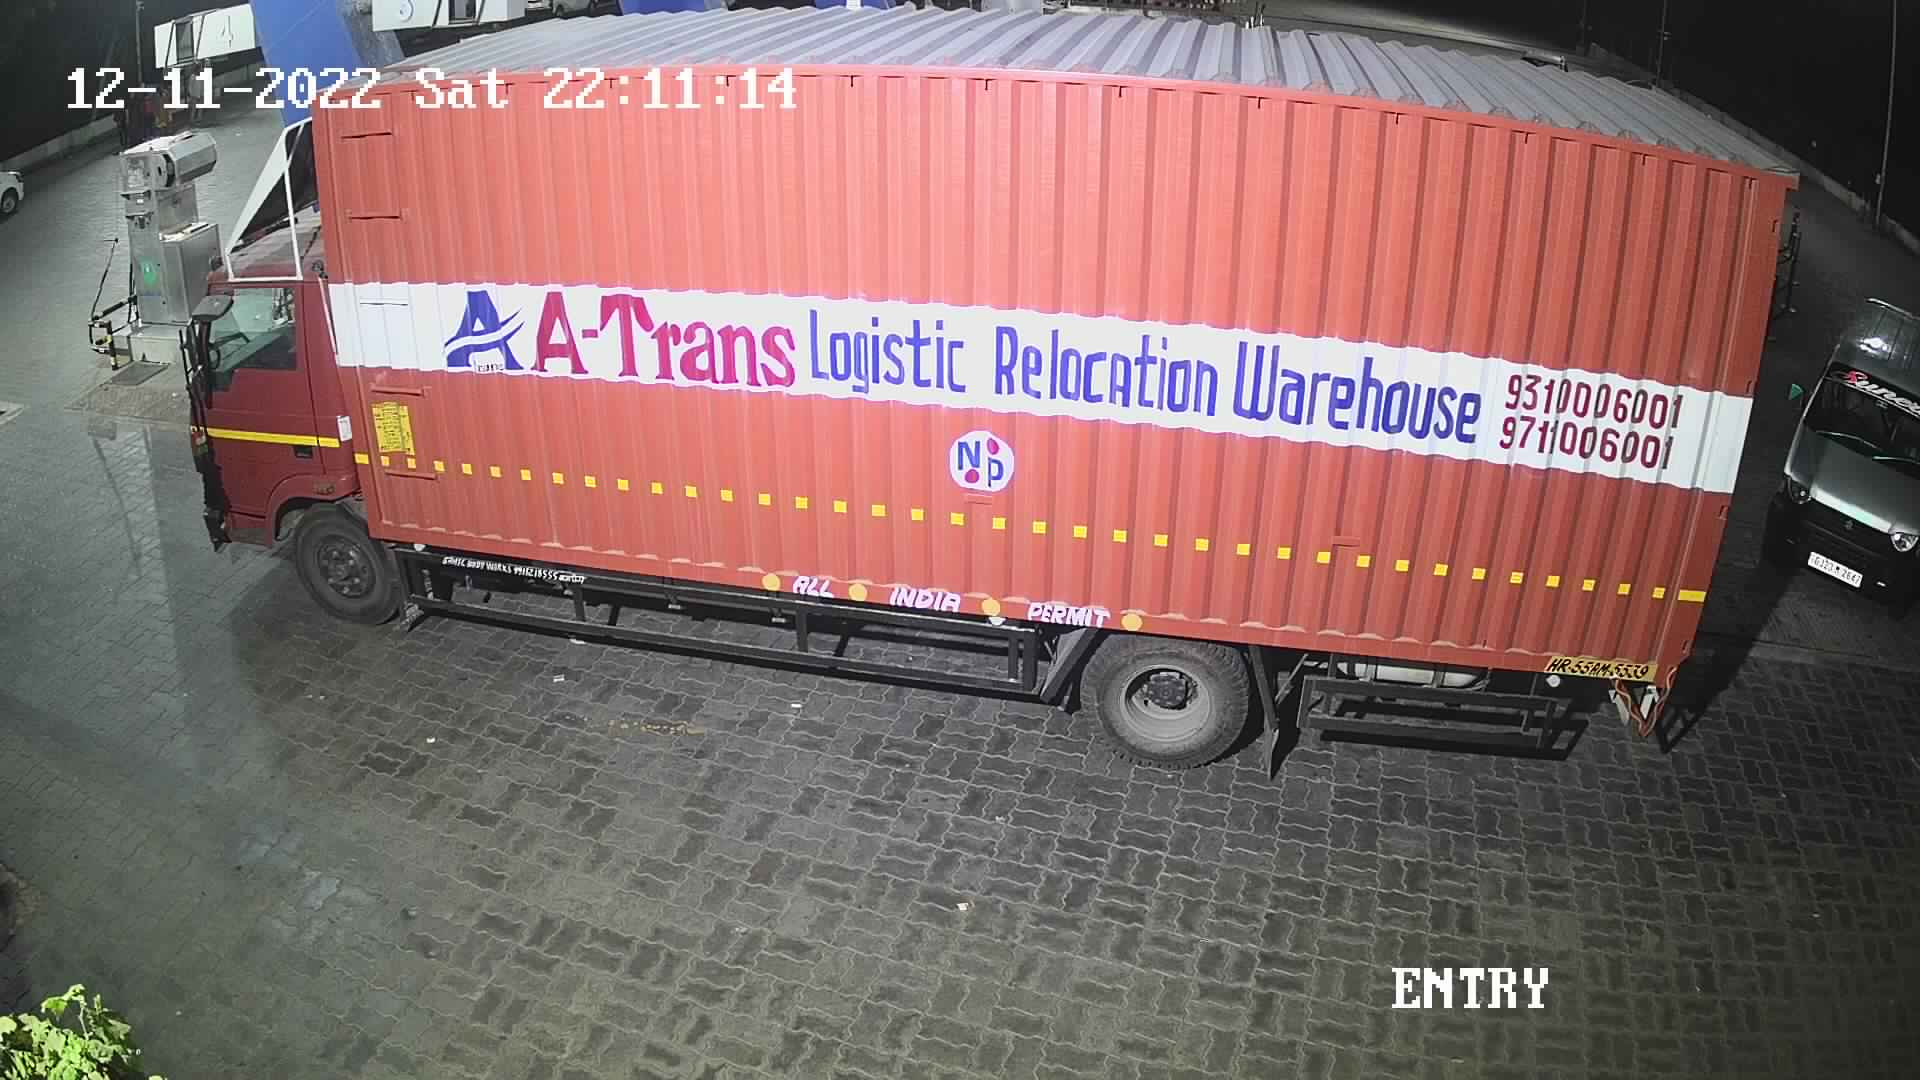Car: (1749, 281, 1917, 632), (0, 138, 38, 257)
HMV: (167, 0, 1808, 791)
